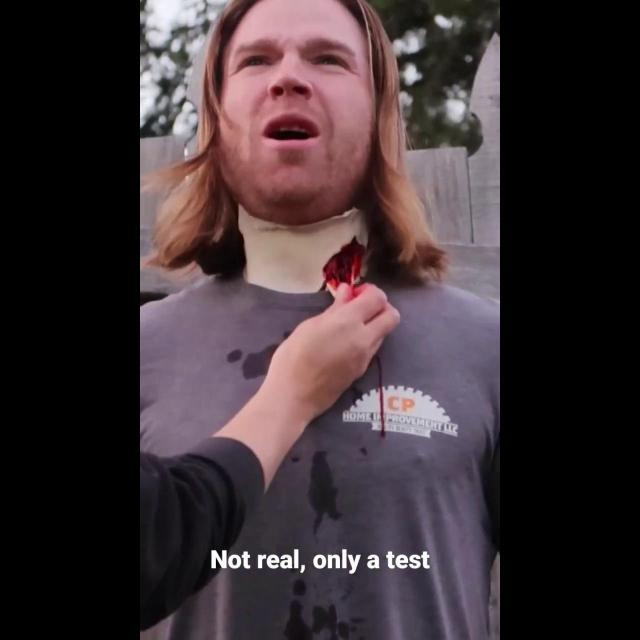blood: (323, 238, 365, 296), (374, 354, 386, 438)
